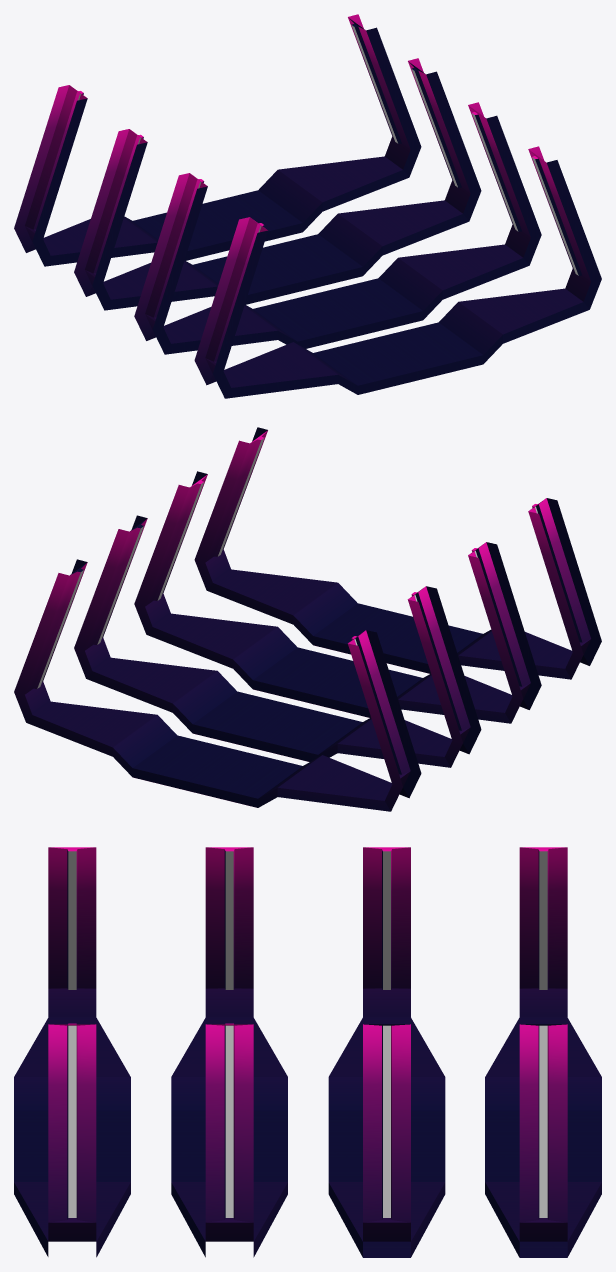
The model's file is inner_tonnel_001.fbx.
3 renders of one model, top to bottom at view 1: azimuth 30°, elevation 25°; view 2: azimuth 150°, elevation 25°; view 3: azimuth 270°, elevation 25°, orthographic. The views are drawn at different scales.
Visible parts, largest first — view 1: inner_tonnel_001; view 2: inner_tonnel_001; view 3: inner_tonnel_001.
Boxes of the visible parts, x1,y1,x2,y2 form: inner_tonnel_001: (14,14,601,398); inner_tonnel_001: (14,427,601,811); inner_tonnel_001: (14,847,601,1257).
Size of the model in its own units: 9.32 by 3.98 by 9.35.
